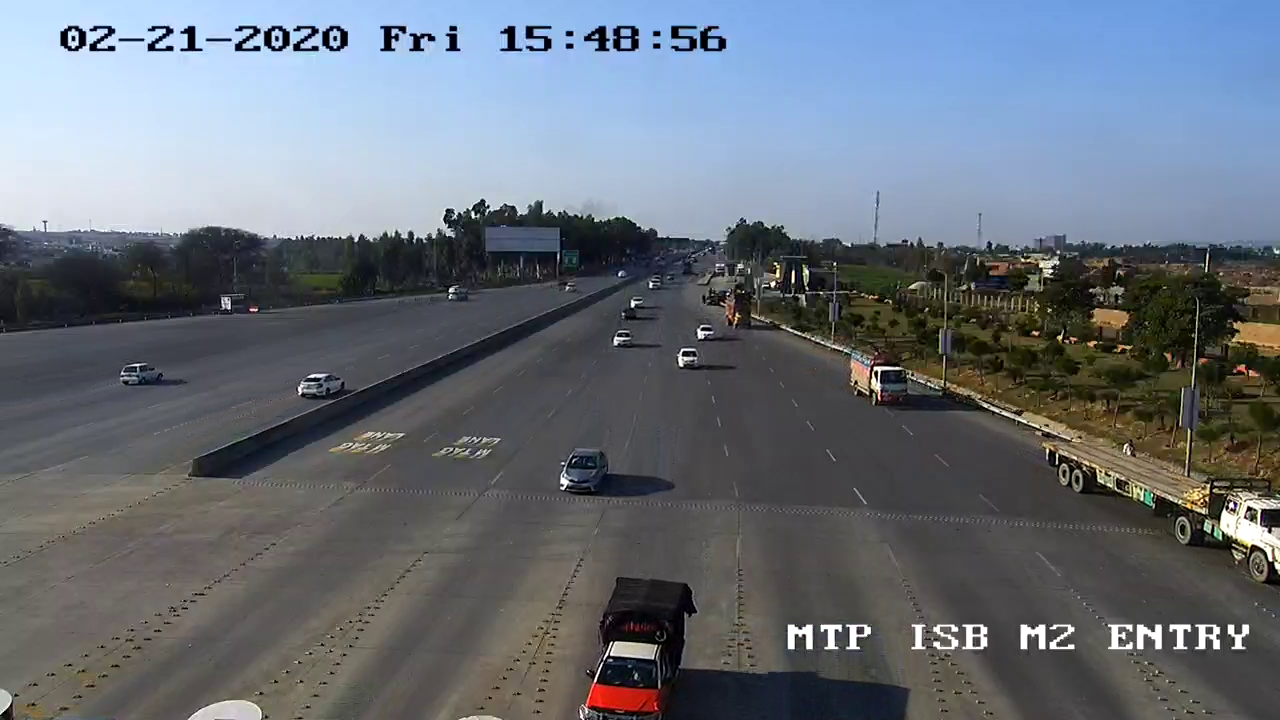f1: (552, 441, 617, 509)
f2: (571, 574, 702, 720)
f5: (839, 332, 914, 417)
